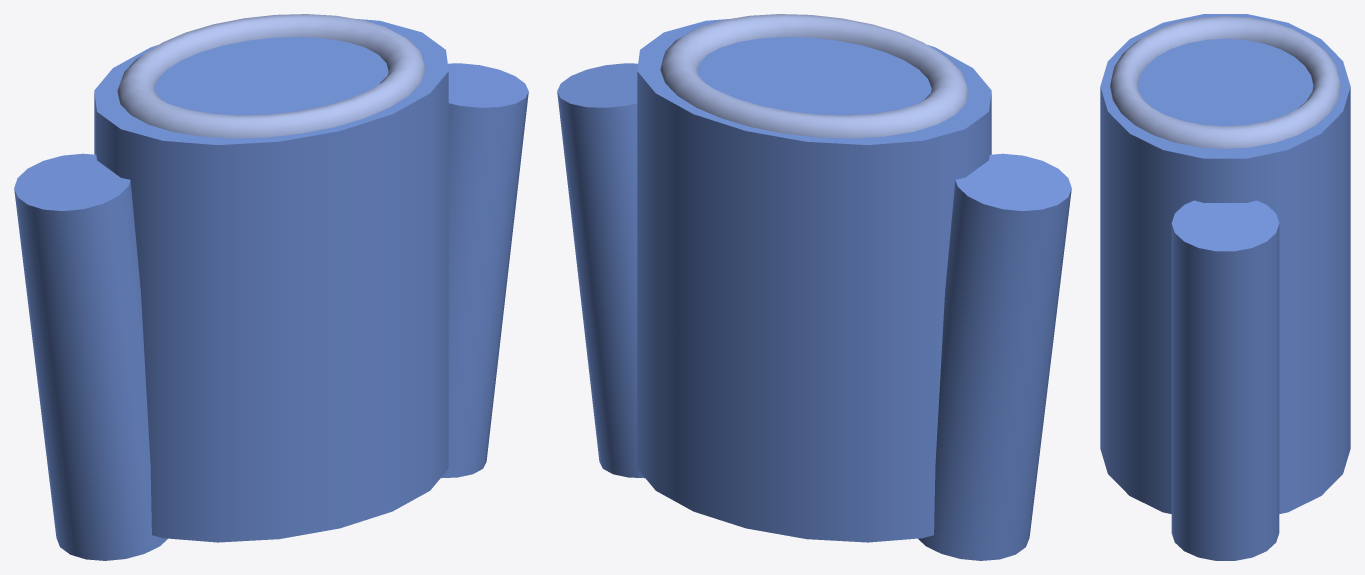
File: VM-DAM-SH40883479.glb
3 views of the same model, side by side, from view 1: azimuth 30°, elevation 25°; view 2: azimuth 150°, elevation 25°; view 3: azimuth 270°, elevation 25° (orthographic). The views are drawn at different scales.
Parts seen in each view (by area): view 1: Blusa Kaftán con Abertura Lateral; view 2: Blusa Kaftán con Abertura Lateral; view 3: Blusa Kaftán con Abertura Lateral.
Part boxes in pixels (x1,y1,x2,y2): Blusa Kaftán con Abertura Lateral: [14, 14, 528, 560]; Blusa Kaftán con Abertura Lateral: [557, 14, 1071, 560]; Blusa Kaftán con Abertura Lateral: [1100, 14, 1350, 560].
Size of the model in its own units: 0.5662 by 0.4717 by 0.2707.
